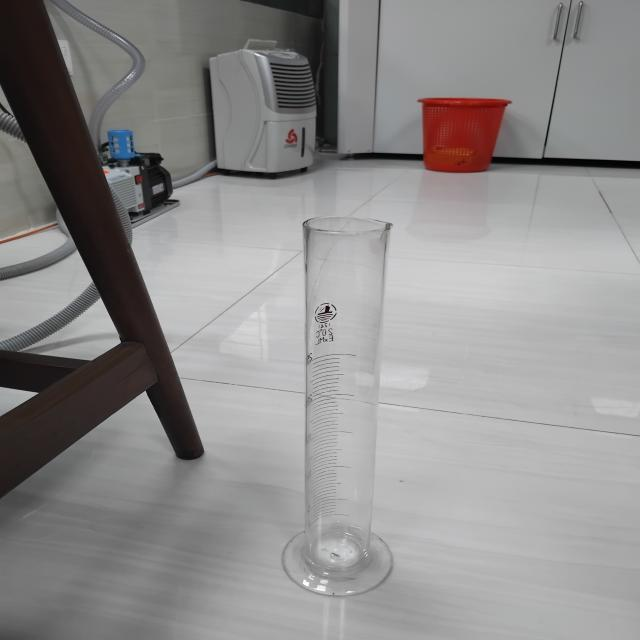Measuring_Cylinder: (211, 191, 458, 626)
